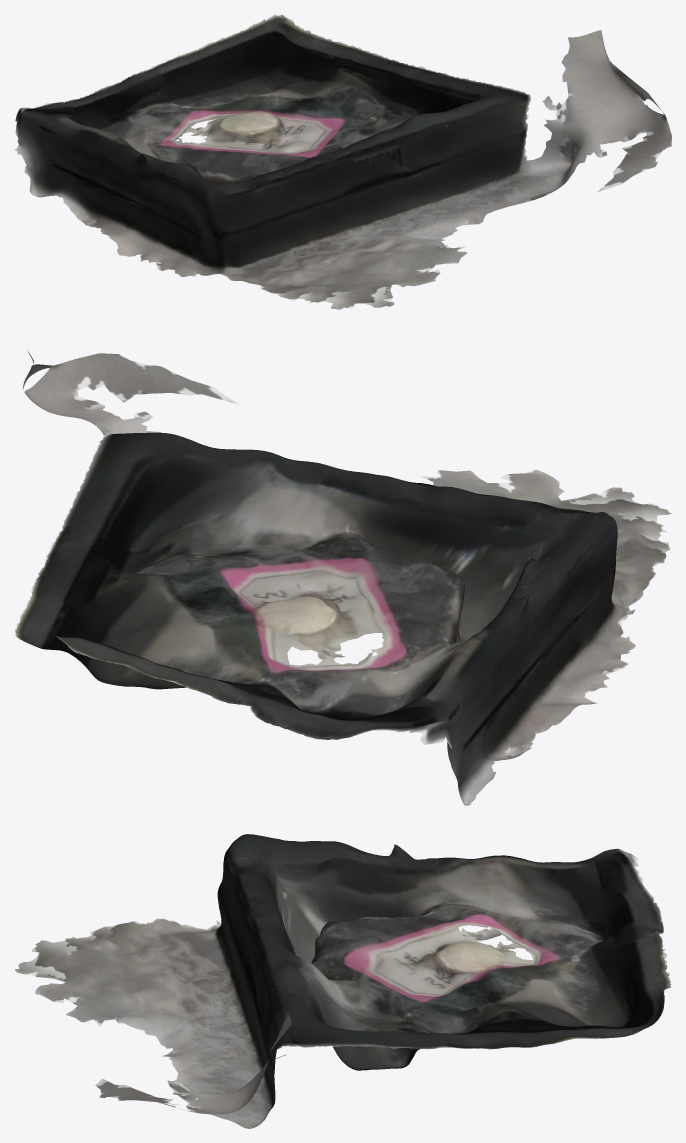
3 renders of one model, top to bottom at view 1: azimuth 30°, elevation 25°; view 2: azimuth 150°, elevation 25°; view 3: azimuth 270°, elevation 25°, orthographic. The views are drawn at different scales.
Size of the model in its own units: 0.578 by 0.1665 by 0.5706.
1 material, 1 textured.
